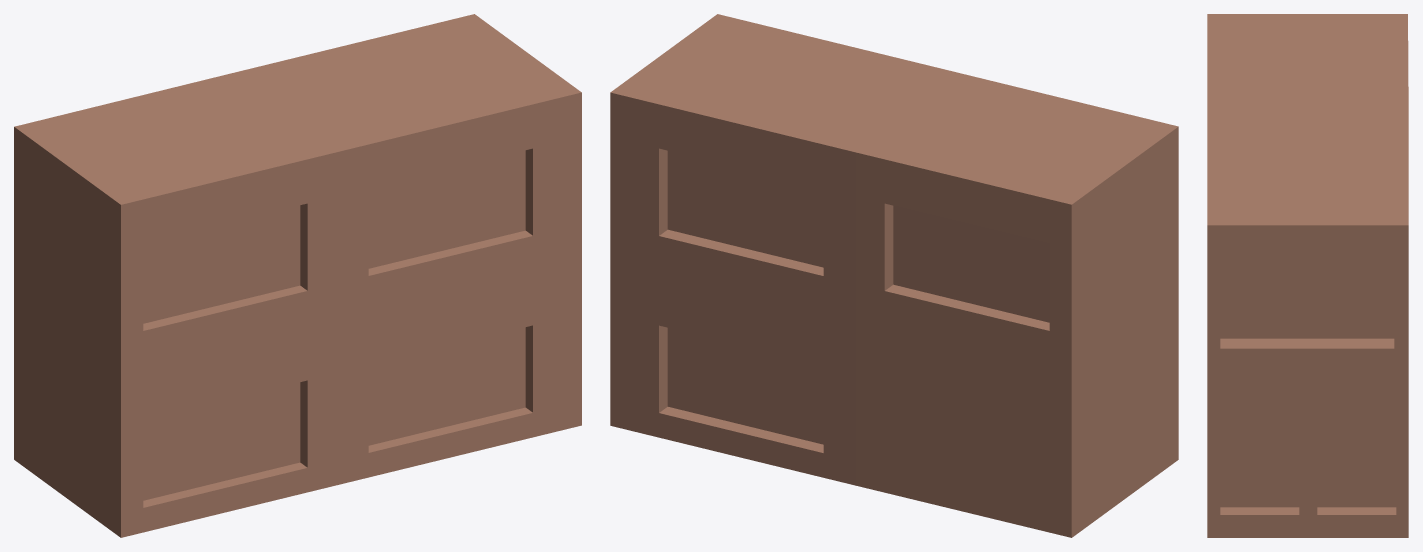
Rendered from School_Section_B_FBX.fbx.
The picture shows the model from 3 angles, left to right: view 1: azimuth 30°, elevation 25°; view 2: azimuth 150°, elevation 25°; view 3: azimuth 270°, elevation 25°; orthographic projection. The views are drawn at different scales.
Parts seen in each view (by area): view 1: School Section B; view 2: School Section B; view 3: School Section B.
Boxes of the visible parts, <box> form: School Section B: <box>14,14,581,537</box>; School Section B: <box>610,14,1178,537</box>; School Section B: <box>1207,14,1408,537</box>.
Size of the model in its own units: 13902 by 9600 by 5602.
